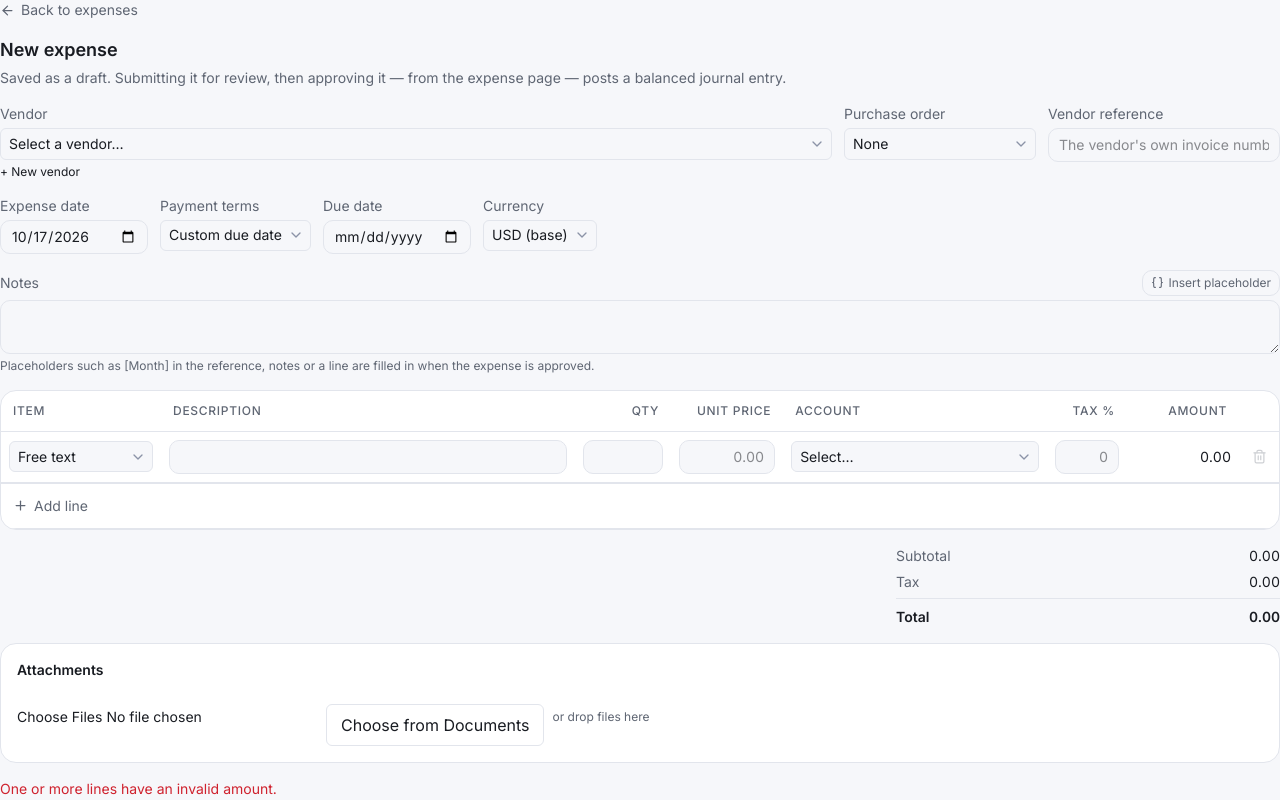
Test: quick add from a document line › on a bill it captures the purchase price and an expense account
Step 1. Select "＋ New product or service…" in the dropdown named "Item for line 1" → (81, 457), box [9,441,153,472]
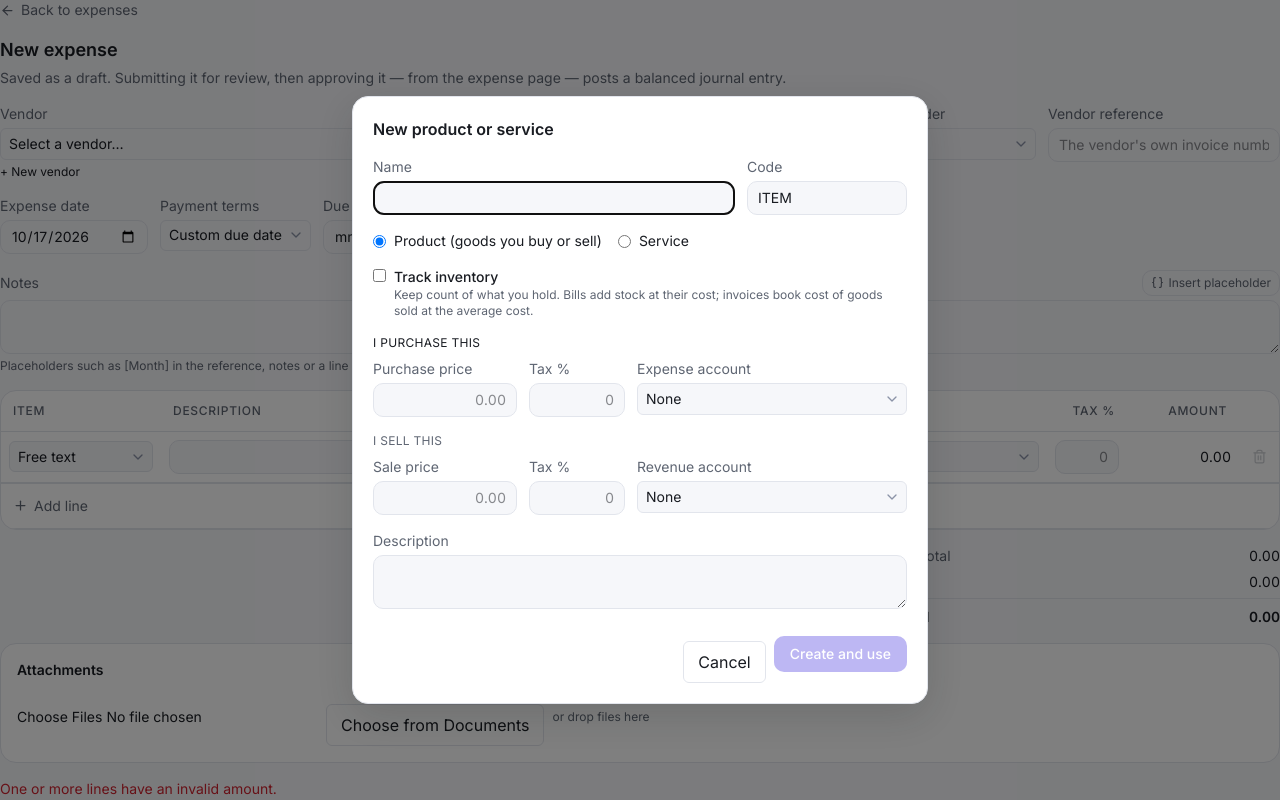
Step 2. Type "Paper" into the field labelled "Name" → (554, 198), box [373,181,735,215]
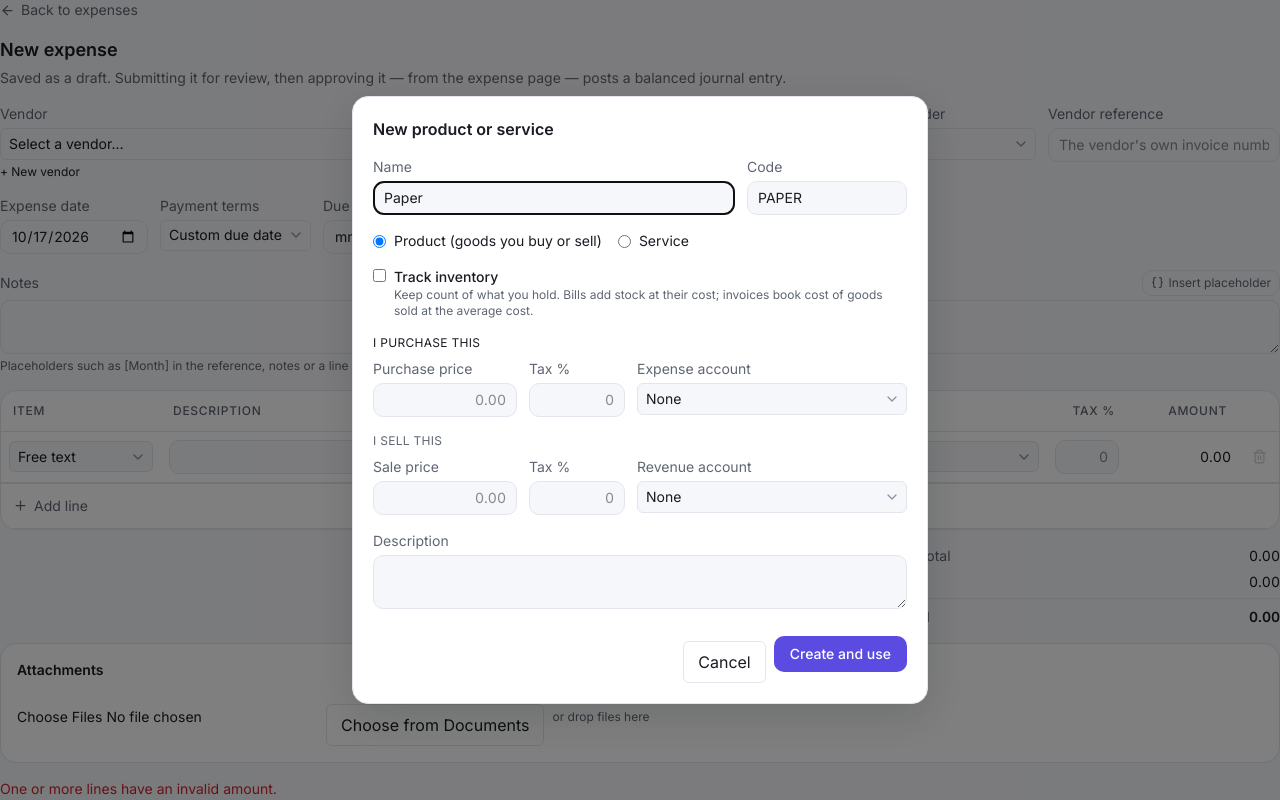
Step 3. Type "4.50" into the field labelled "Purchase price" → (445, 400), box [373,383,517,417]
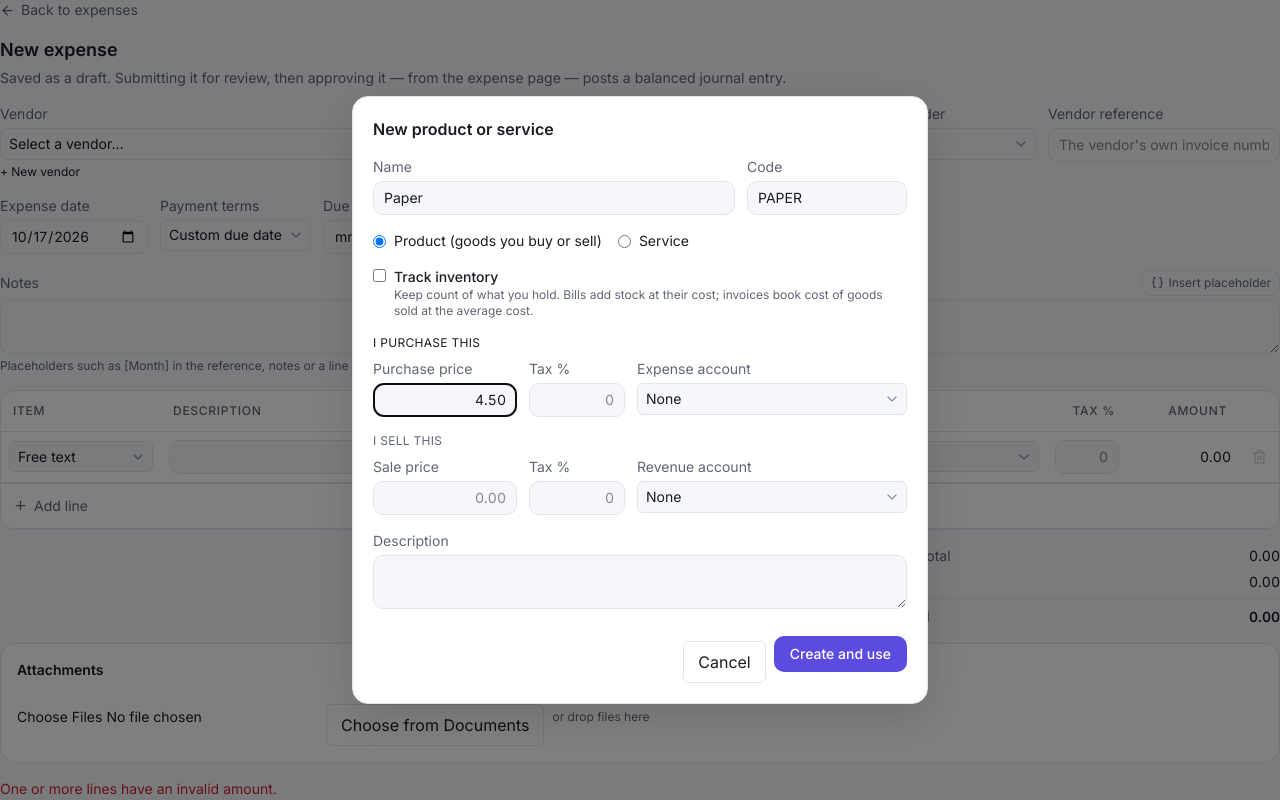
Step 4. Select "6100 · Supplies" in the dropdown labelled "Expense account" → (772, 399), box [637,383,907,415]
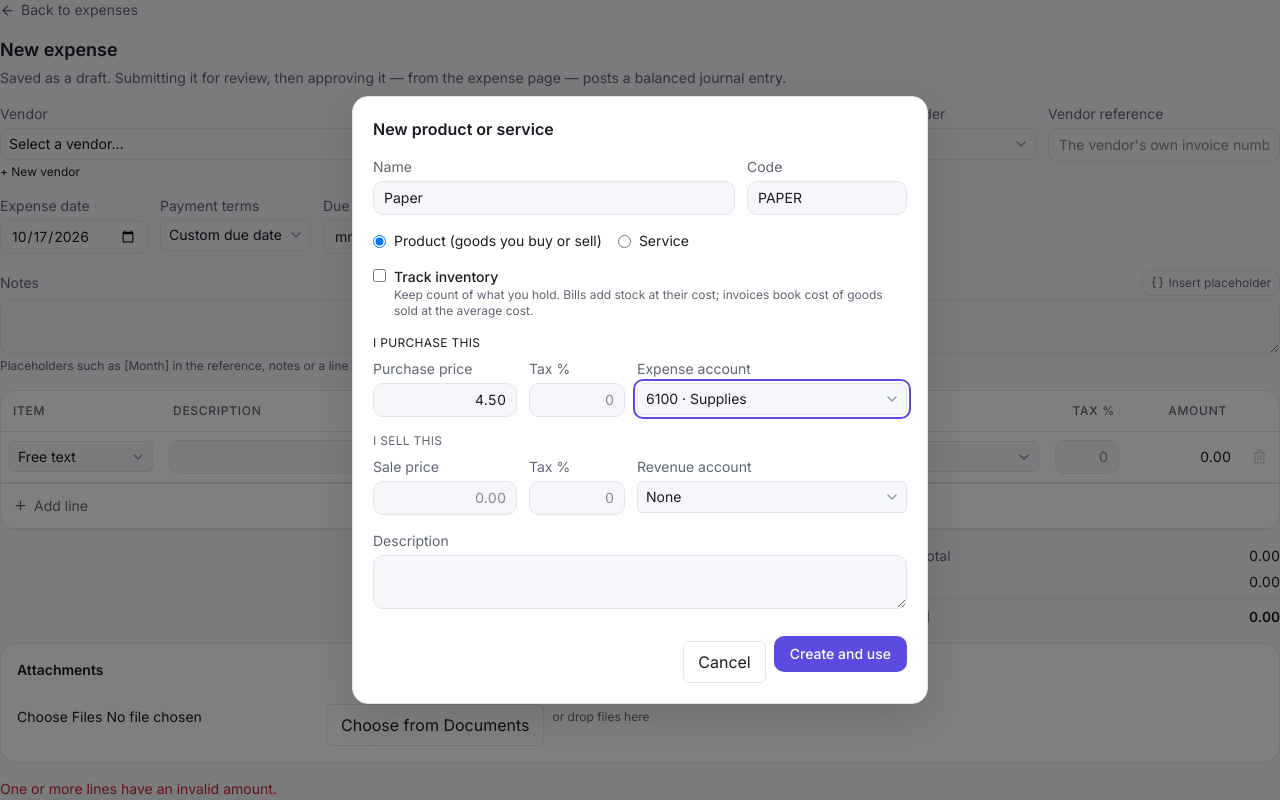
Step 5. Click the button "Create and use" → (840, 654), box [774,636,907,672]
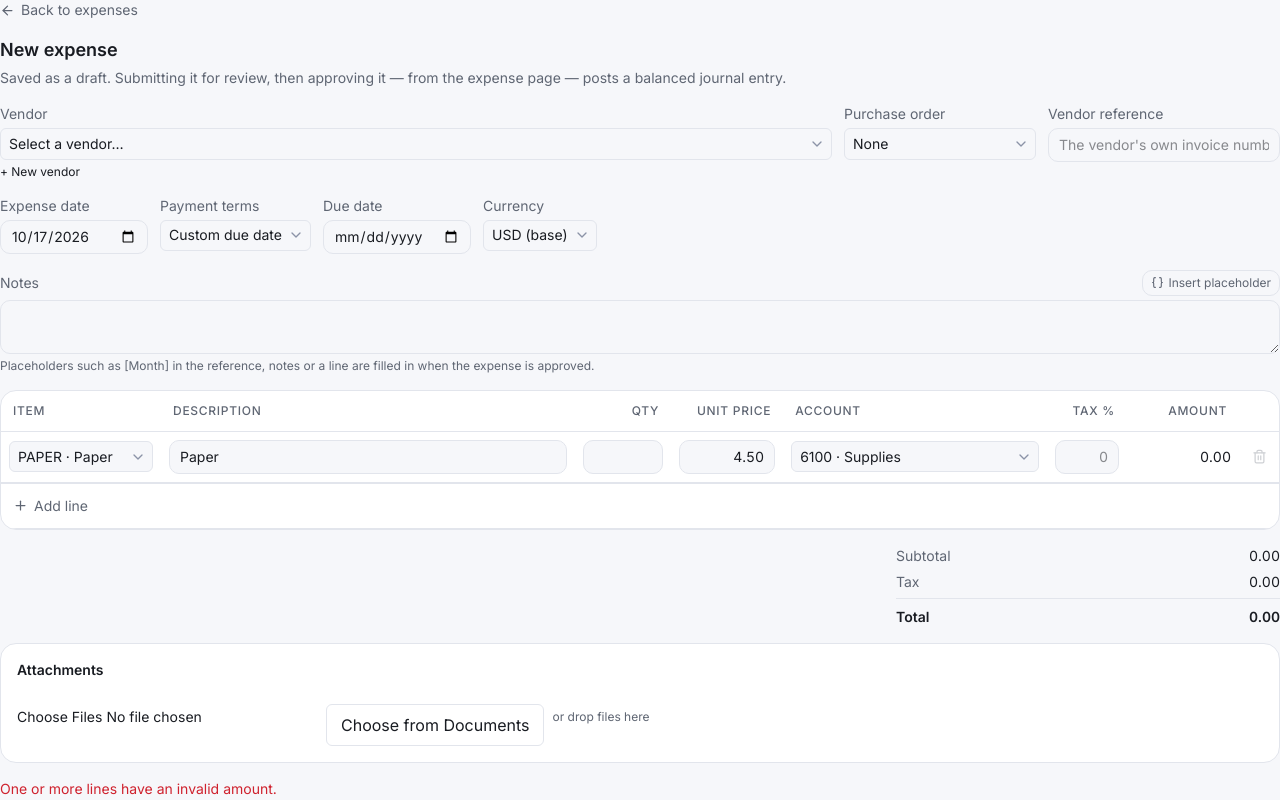
Now the dialog is gone
Now the dropdown named "Account for line 1" shows "6100 · Supplies", box [791,441,1039,472]
Now the field named "Unit price for line 1" holds "4.50", box [679,440,775,474]
